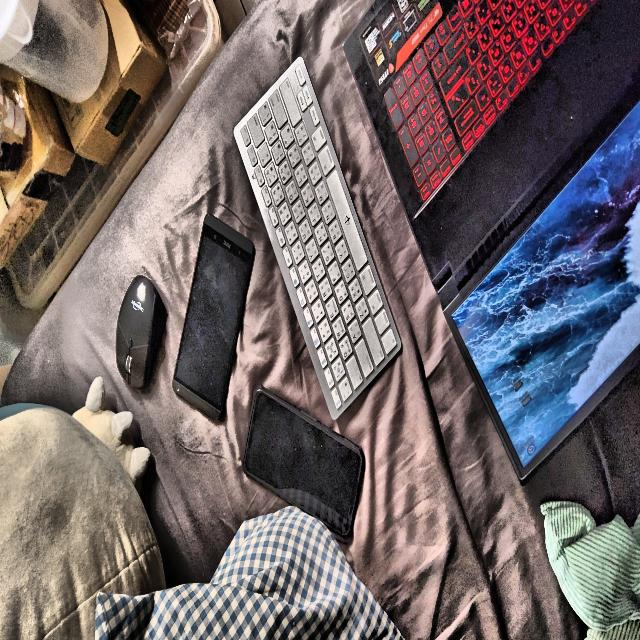Keyboard: (234, 57, 401, 419)
Laptop: (344, 0, 640, 480)
MOUSE: (116, 276, 167, 390)
PHONE: (243, 387, 365, 537), (173, 214, 255, 421)
